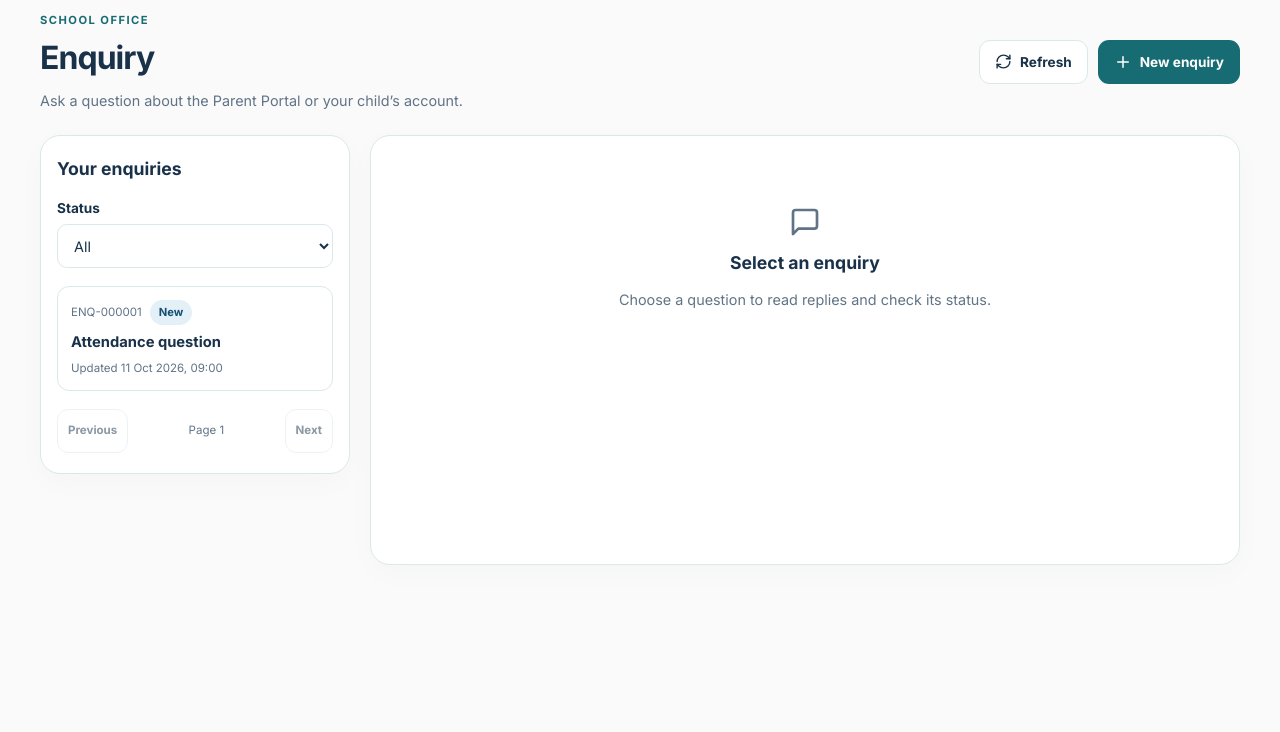
Test case: Parent messages display as text and parents cannot change status
The width and height of the screenshot is (1280, 732).
What coordinates should you click on to do the following:
click the button with class "enquiry-row"
I would click on:
 (195, 339)
Its box is [57,286,333,391].
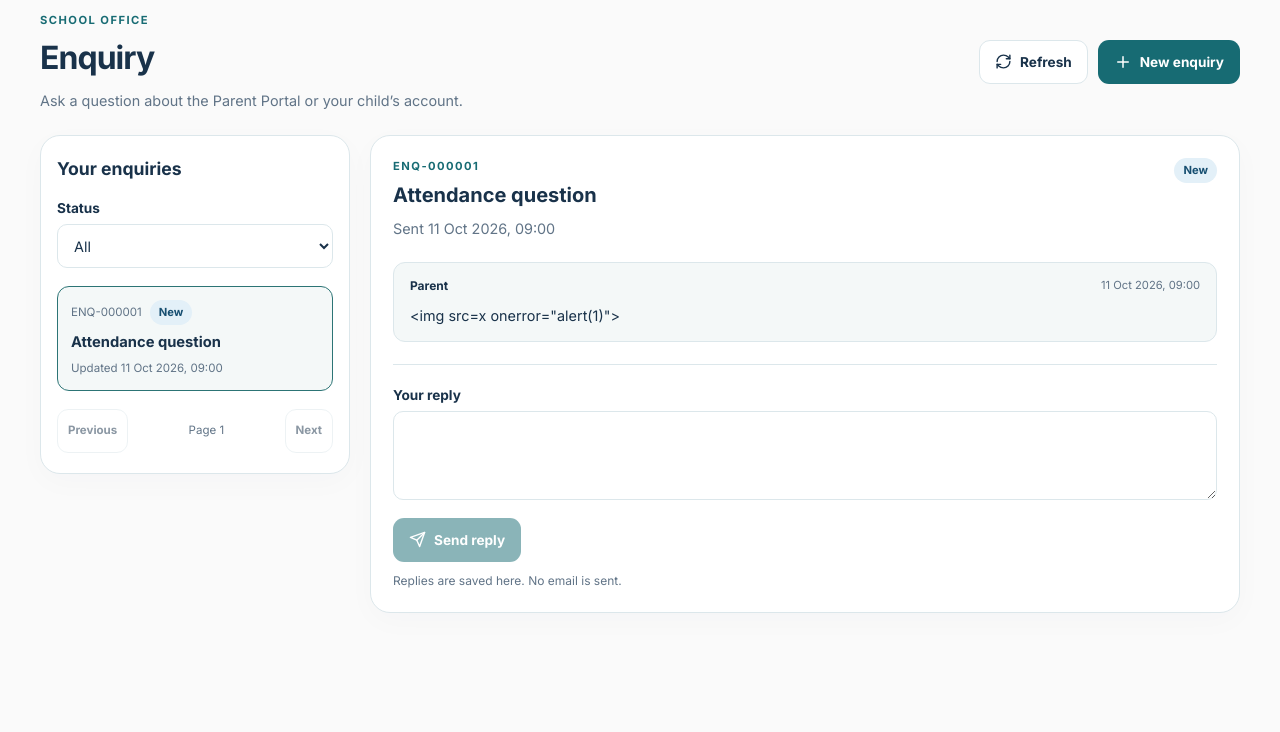
Now the text box with id "enquiry-reply" is shown, box [393,411,1217,500]
